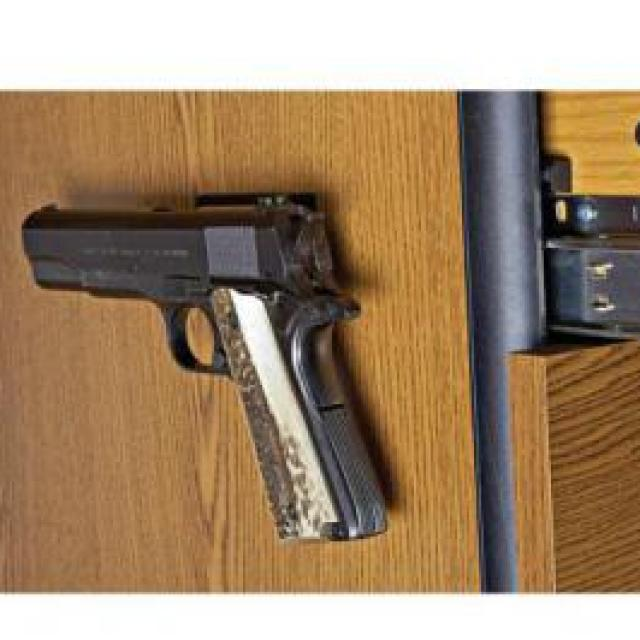pistol: (27, 183, 394, 548)
